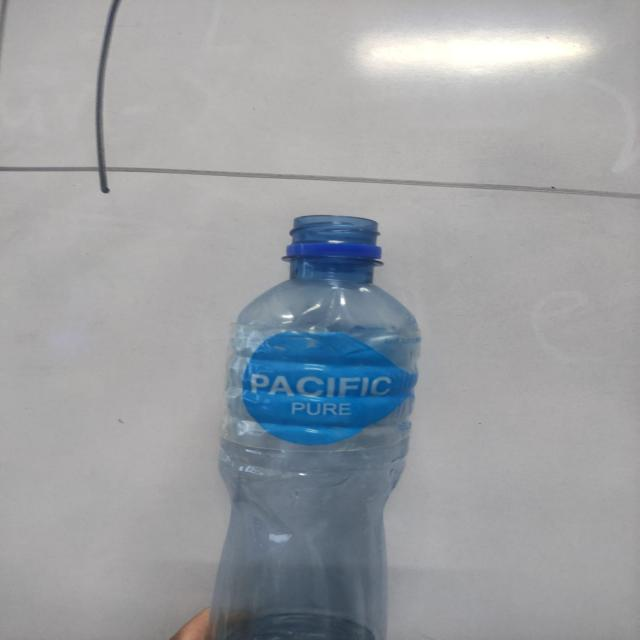bottle: (210, 213, 427, 636)
label: (225, 326, 432, 452)
